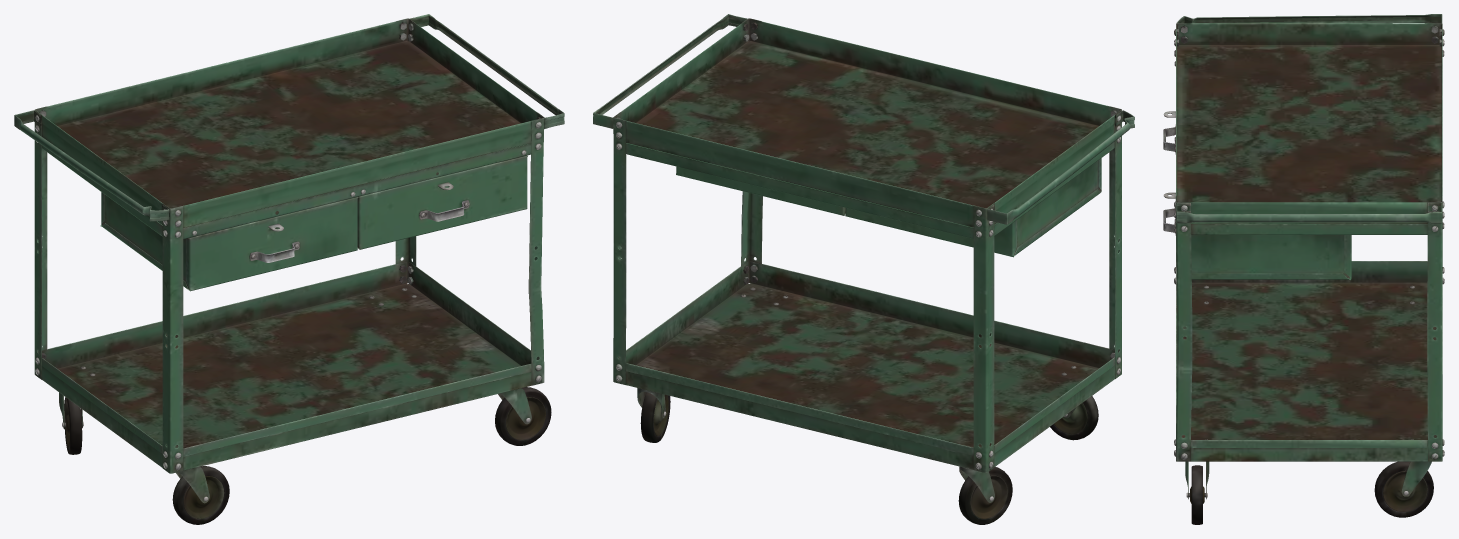
The model's file is ph-tool_cart.glb.
3 renders of one model, left to right at view 1: azimuth 30°, elevation 25°; view 2: azimuth 150°, elevation 25°; view 3: azimuth 270°, elevation 25°, orthographic. The views are drawn at different scales.
Visible parts, largest first — view 1: tool_cart; view 2: tool_cart; view 3: tool_cart.
Boxes of the visible parts, bbox=[...] form: tool_cart: bbox=[14, 14, 564, 524]; tool_cart: bbox=[593, 14, 1134, 524]; tool_cart: bbox=[1163, 14, 1444, 524].
Size of the model in its own units: 1 by 0.7576 by 0.5919.
1 material, 1 textured.
